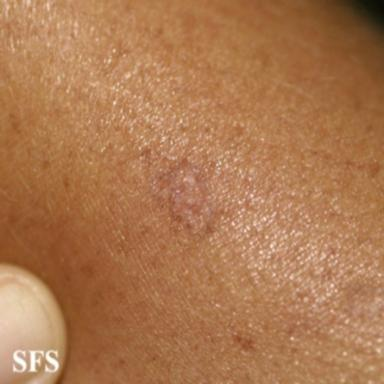Porokeratosis: (155, 161, 213, 236)
